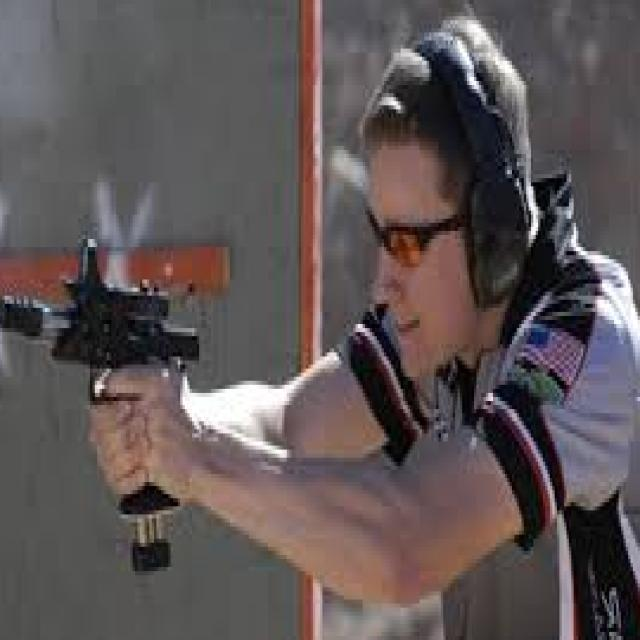gun: (0, 218, 214, 611)
